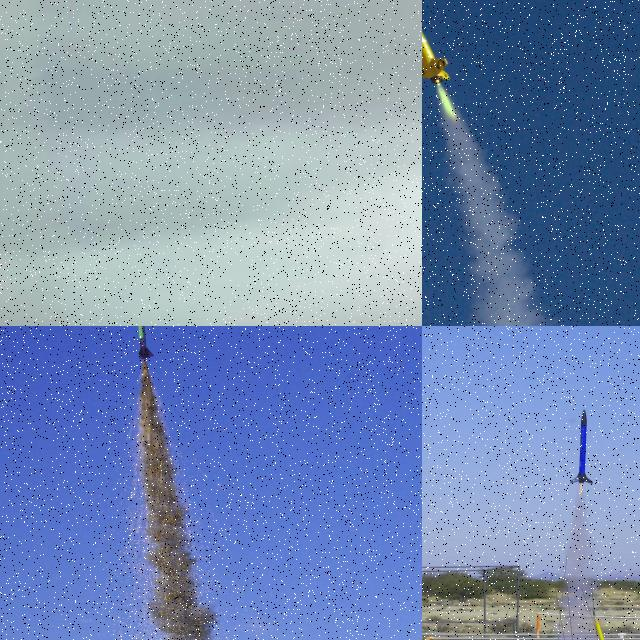Rocket: (569, 410, 594, 484), (592, 609, 622, 640), (135, 326, 154, 360)
